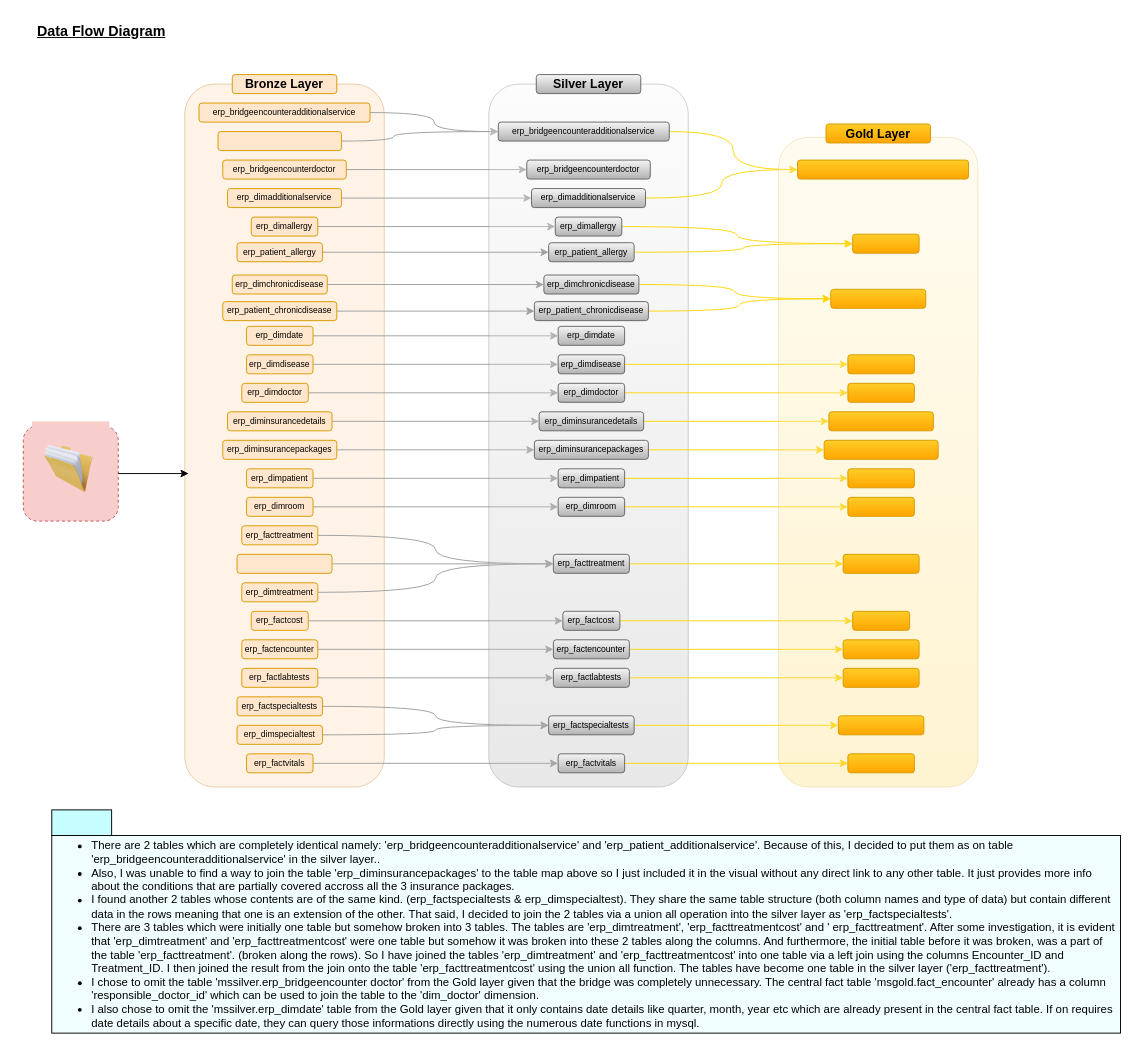
Some shapes in this 1137 by 1057 pixel diagram are drawn without their labels. The box of each missing label's shape, as (x1, y1, x2, y2) in pixels:
dim_disease: (847, 354, 914, 374)
dim_doctor: (847, 382, 914, 402)
dim_encounteradditionals ervice: (797, 159, 969, 179)
dim_insurancedetails: (828, 411, 933, 431)
dim_insurancepackages: (823, 439, 938, 459)
dim_patient: (847, 468, 914, 488)
dim_room: (847, 496, 914, 516)
ERP: (37, 445, 99, 492)
erp_facttreatmentcost: (236, 553, 332, 573)
erp_patient_additionalservice: (217, 131, 342, 151)
fact_allergy: (852, 233, 919, 253)
fact_chronicdisease: (830, 288, 926, 308)
fact_cost: (852, 610, 910, 630)
fact_encounter: (842, 639, 919, 659)
fact_lab_tests: (842, 667, 919, 687)
fact_special_tests: (837, 715, 924, 735)
fact_treatment: (842, 553, 919, 573)
fact_vitals: (847, 753, 914, 773)
Key: (51, 809, 112, 836)
Source System: (32, 421, 109, 435)
